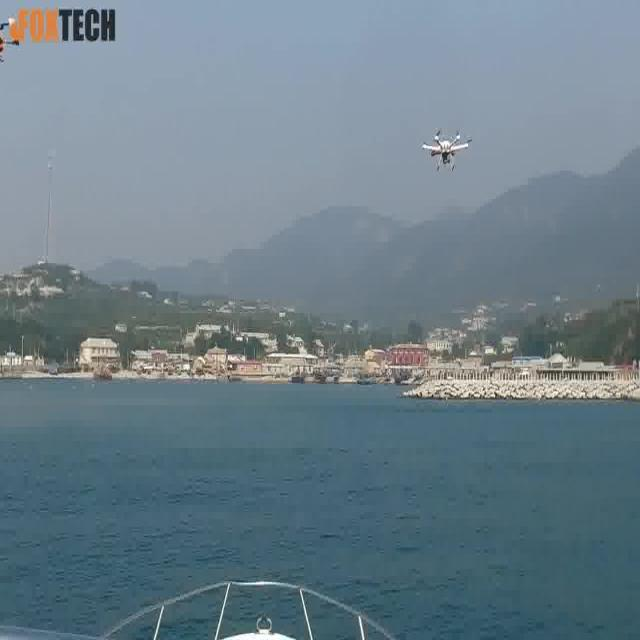drone: (419, 114, 475, 181)
